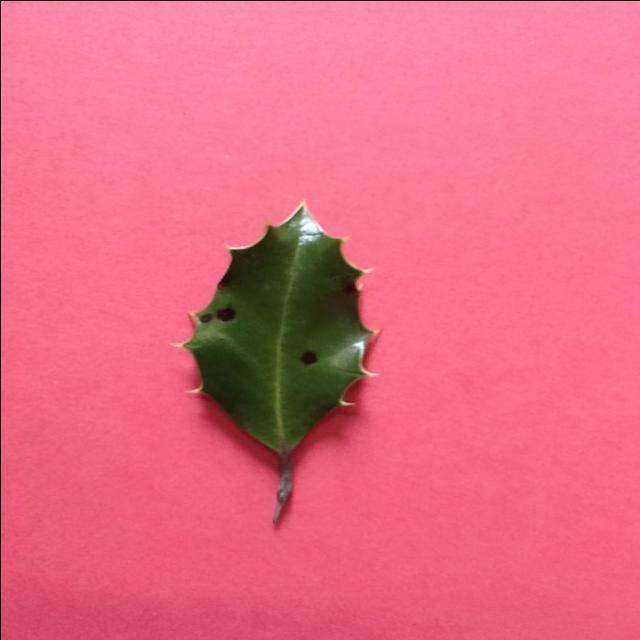foliage: (169, 198, 386, 534)
